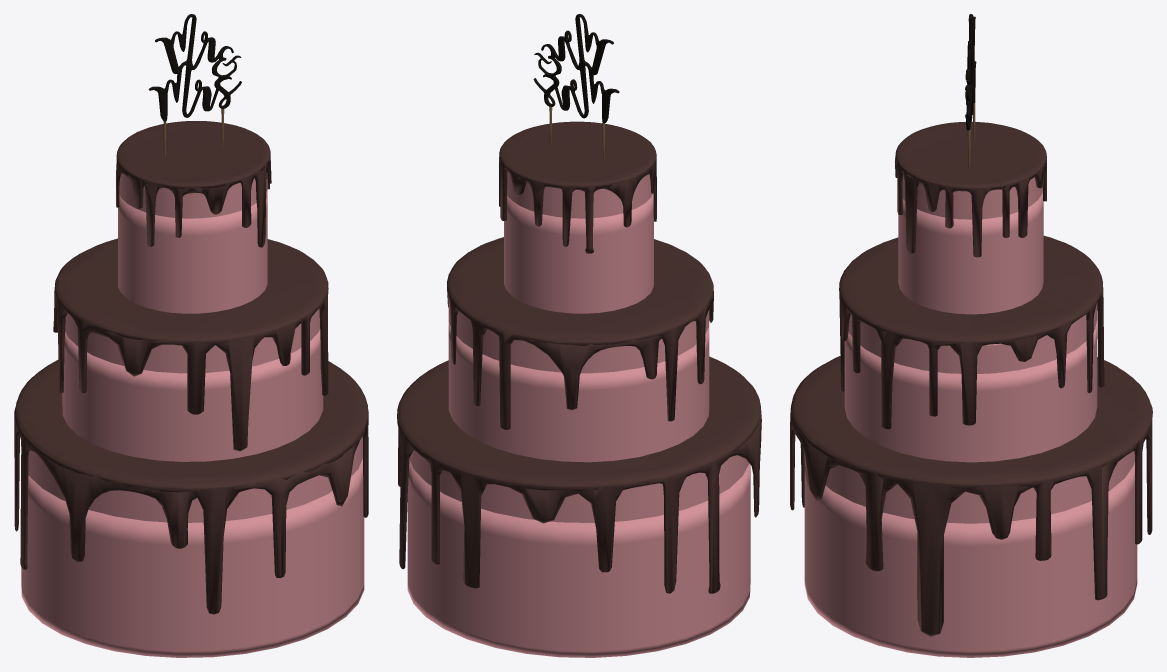
Rendered from 3-tier-blush-ganache-mrms.glb.
The picture shows the model from 3 angles, left to right: view 1: azimuth 30°, elevation 25°; view 2: azimuth 150°, elevation 25°; view 3: azimuth 270°, elevation 25°; orthographic projection.
Visible parts, largest first — view 1: Cylinder.022, tHE ICING.005, Cylinder.014, tHE ICING.002, Cylinder.021, tHE ICING.001, mrms.002; view 2: Cylinder.022, tHE ICING.005, Cylinder.014, tHE ICING.002, Cylinder.021, tHE ICING.001, mrms.002; view 3: Cylinder.022, tHE ICING.005, Cylinder.014, tHE ICING.002, Cylinder.021, tHE ICING.001, mrms.002.
Part boxes in pixels (x1,y1,x2,y2): Cylinder.022: (21, 436, 364, 657); tHE ICING.005: (14, 360, 368, 614); Cylinder.014: (62, 309, 323, 461); tHE ICING.002: (53, 238, 328, 451); Cylinder.021: (118, 173, 267, 313); tHE ICING.001: (116, 121, 271, 247); mrms.002: (148, 14, 241, 158); Cylinder.022: (407, 450, 750, 657); tHE ICING.005: (397, 356, 761, 593); Cylinder.014: (448, 297, 709, 462); tHE ICING.002: (447, 237, 713, 429); Cylinder.021: (504, 171, 653, 313); tHE ICING.001: (499, 121, 656, 253); mrms.002: (533, 14, 619, 160); Cylinder.022: (804, 451, 1137, 657); tHE ICING.005: (790, 356, 1152, 636); Cylinder.014: (844, 303, 1097, 462); tHE ICING.002: (839, 235, 1104, 429); Cylinder.021: (898, 175, 1043, 314); tHE ICING.001: (895, 121, 1046, 257); mrms.002: (965, 14, 976, 167).
Size of the model in its own units: 4.33 by 7.67 by 4.43.
